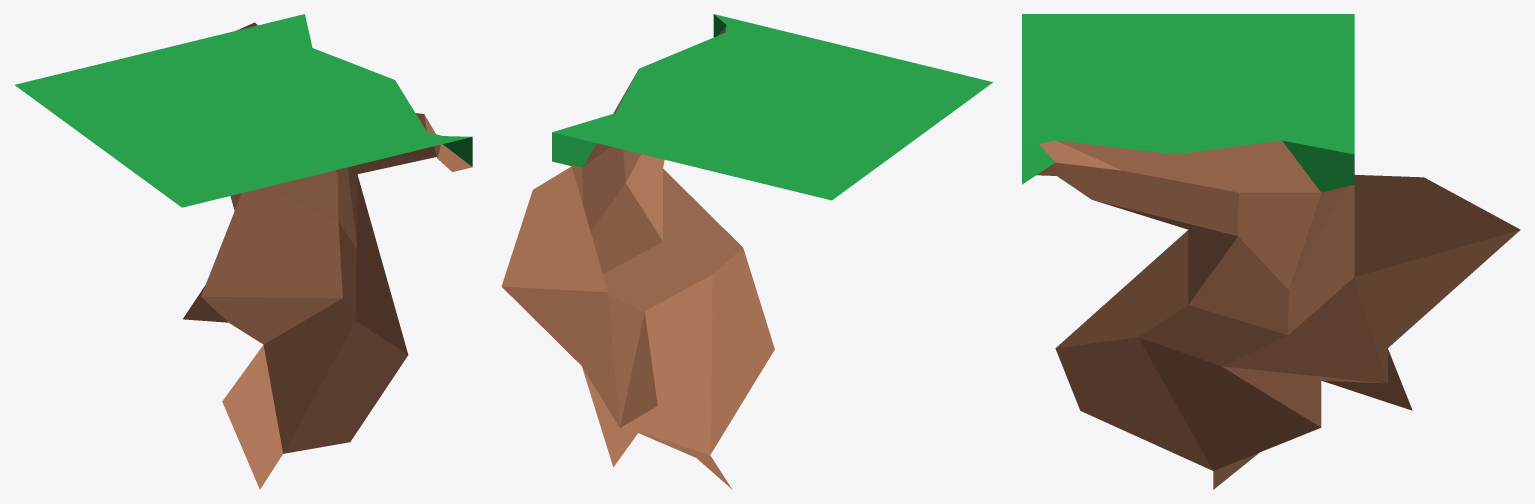
File: Edge Center Corner Above E.fbx
3 views of the same model, side by side, from view 1: azimuth 30°, elevation 25°; view 2: azimuth 150°, elevation 25°; view 3: azimuth 270°, elevation 25° (orthographic). The views are drawn at different scales.
Parts seen in each view (by area): view 1: Edge Center Corner Above E; view 2: Edge Center Corner Above E; view 3: Edge Center Corner Above E.
Part boxes in pixels (x1,y1,x2,y2): Edge Center Corner Above E: (15, 14, 472, 489); Edge Center Corner Above E: (501, 14, 992, 489); Edge Center Corner Above E: (1022, 14, 1520, 489).
Bounding box in the file's own units: 50.45 × 65 × 75.
